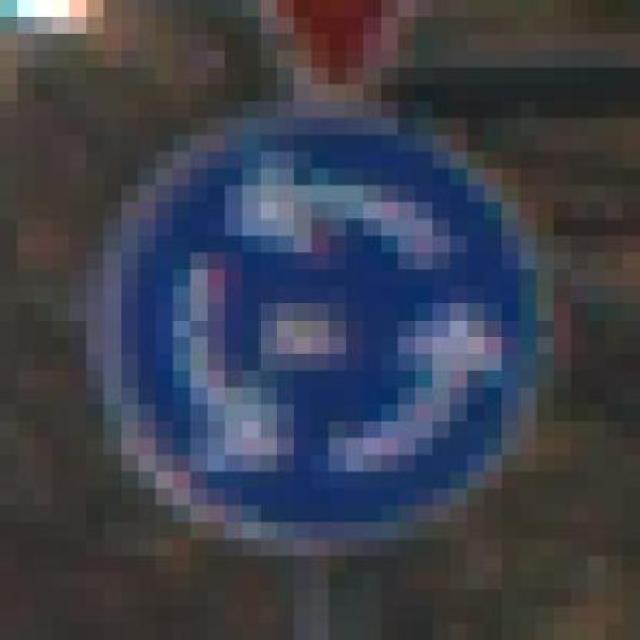Round-About: (69, 84, 606, 573)
